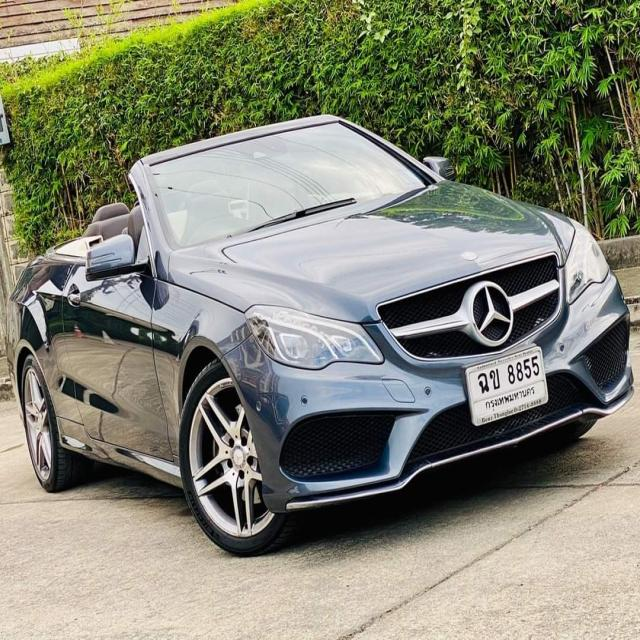license_plate: (465, 345, 552, 428)
